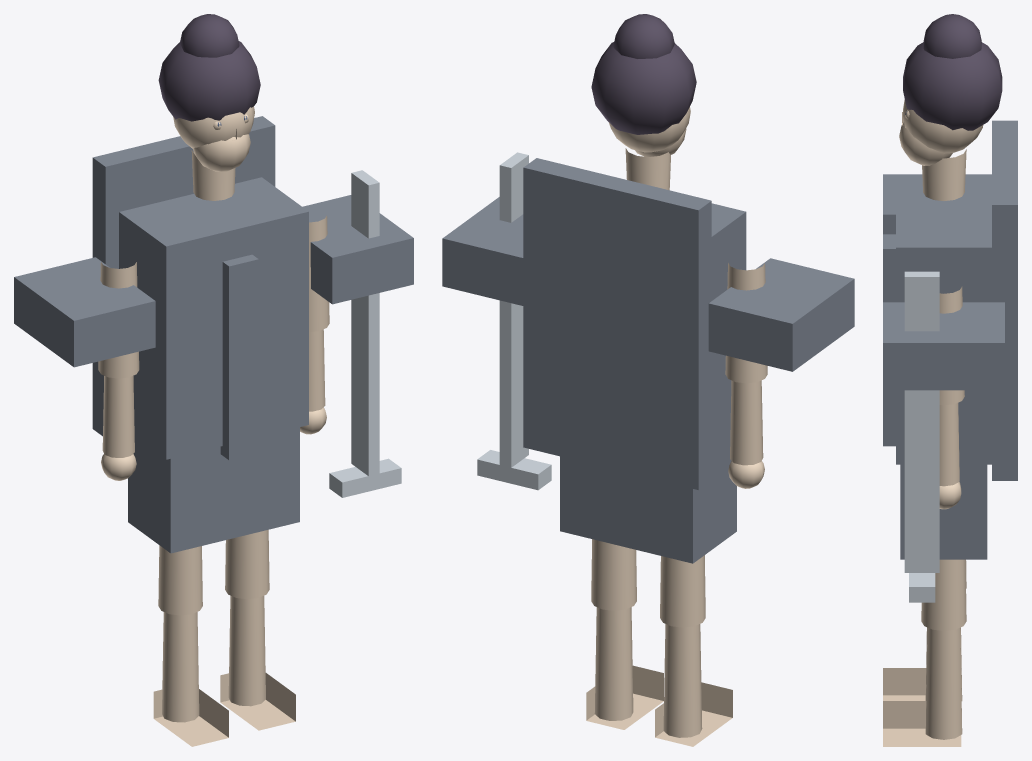
The model's file is body.glb.
3 renders of one model, left to right at view 1: azimuth 30°, elevation 25°; view 2: azimuth 150°, elevation 25°; view 3: azimuth 270°, elevation 25°, orthographic. The views are drawn at different scales.
Visible parts, largest first — view 1: Cloth, Skin, Metal, Hair; view 2: Cloth, Skin, Hair, Metal; view 3: Cloth, Skin, Metal, Hair.
Boxes of the visible parts, x1=… form: Cloth: x1=14, y1=116, x2=413, y2=553; Skin: x1=98, y1=106, x2=329, y2=746; Metal: x1=329, y1=170, x2=401, y2=497; Hair: x1=158, y1=14, x2=260, y2=121; Cloth: x1=442, y1=158, x2=854, y2=563; Skin: x1=586, y1=107, x2=767, y2=746; Hair: x1=591, y1=14, x2=696, y2=134; Metal: x1=477, y1=152, x2=551, y2=490; Cloth: x1=883, y1=120, x2=1017, y2=559; Skin: x1=883, y1=99, x2=983, y2=746; Metal: x1=904, y1=271, x2=939, y2=602; Hair: x1=903, y1=14, x2=1002, y2=130.
Size of the model in its own units: 0.9184 by 1.79 by 0.31.
